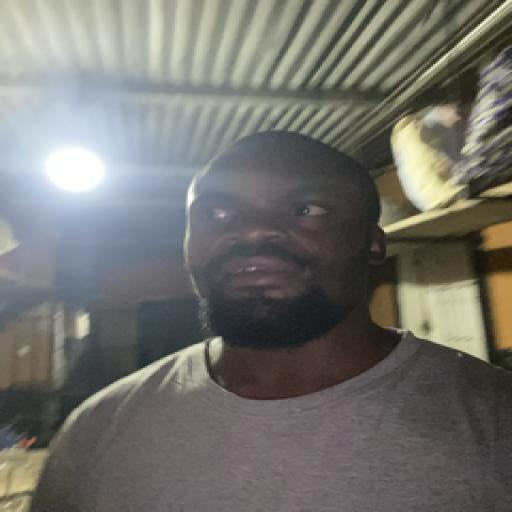JEANLUC: (168, 118, 399, 370)
